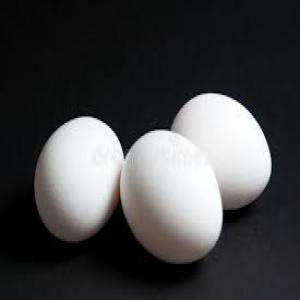Egg: (120, 128, 222, 264), (170, 93, 272, 210), (34, 115, 126, 241)
